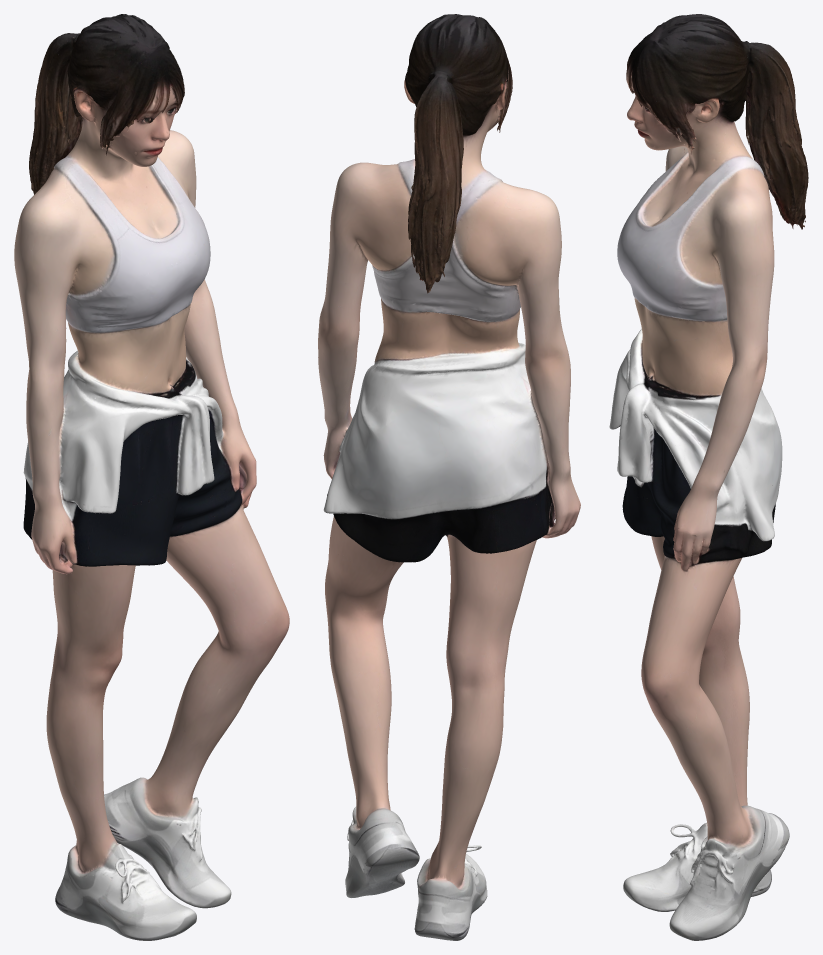
The model's file is studio_fitness_pose.glb.
The picture shows the model from 3 angles, left to right: view 1: azimuth 30°, elevation 25°; view 2: azimuth 150°, elevation 25°; view 3: azimuth 270°, elevation 25°; orthographic projection. The views are drawn at different scales.
Visible parts, largest first — view 1: Object_5, Object_6, Object_7; view 2: Object_6, Object_7, Object_5; view 3: Object_5, Object_6, Object_7.
Part boxes in pixels (left/top/right/bottom): Object_5: left=25, top=14, right=289, bottom=940; Object_6: left=14, top=14, right=251, bottom=930; Object_7: left=15, top=18, right=257, bottom=892; Object_6: left=318, top=15, right=561, bottom=940; Object_7: left=323, top=25, right=561, bottom=897; Object_5: left=323, top=14, right=580, bottom=910; Object_5: left=609, top=14, right=745, bottom=940; Object_6: left=644, top=14, right=808, bottom=938; Object_7: left=659, top=19, right=749, bottom=937.
Size of the model in its own units: 0.5494 by 1.9 by 0.3901.
Materials: 1 (1 with a texture image).
